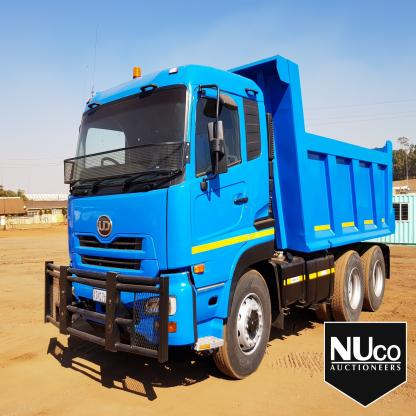dump_truck: (28, 36, 397, 378)
